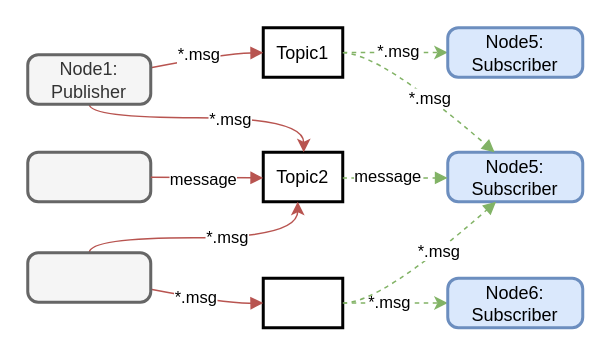
This 609x354 diagram has some shape labels left out. The centre of each missing label's shape, as x and y in pixels:
Node2: Publisher: [89,176]
Node3: Publisher: [89,276]
Topic3: [302,302]
